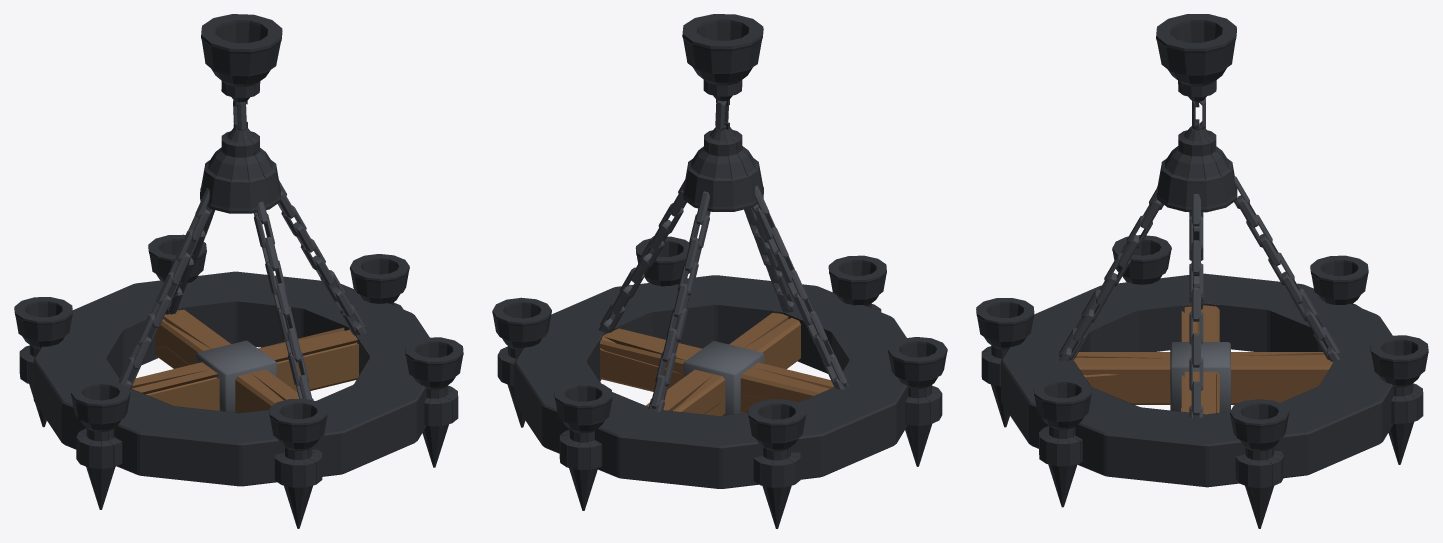
Rendered from Chandelier.fbx.
3 views of the same model, side by side, from view 1: azimuth 30°, elevation 25°; view 2: azimuth 150°, elevation 25°; view 3: azimuth 270°, elevation 25° (orthographic).
Visible parts, largest first — view 1: Chandelier; view 2: Chandelier; view 3: Chandelier.
Part boxes in pixels (bbox=[...]): Chandelier: bbox=[14, 14, 463, 528]; Chandelier: bbox=[492, 14, 947, 528]; Chandelier: bbox=[976, 14, 1428, 528].
Bounding box in the file's own units: 4.62 × 4.73 × 4.67.
